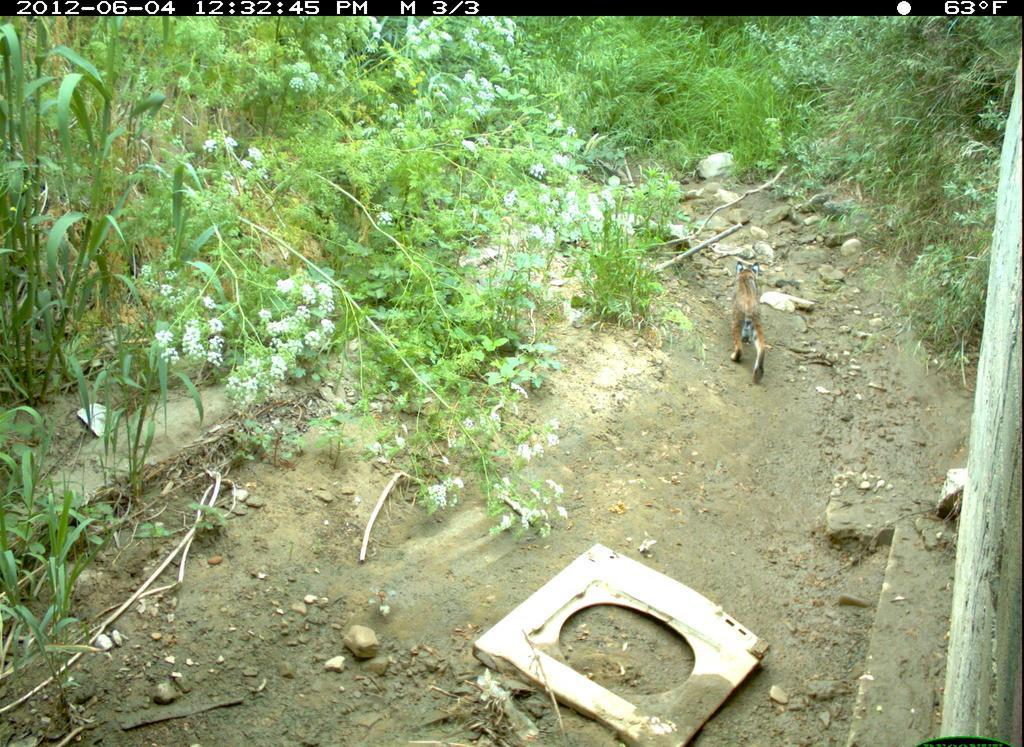bobcat: (721, 254, 775, 391)
